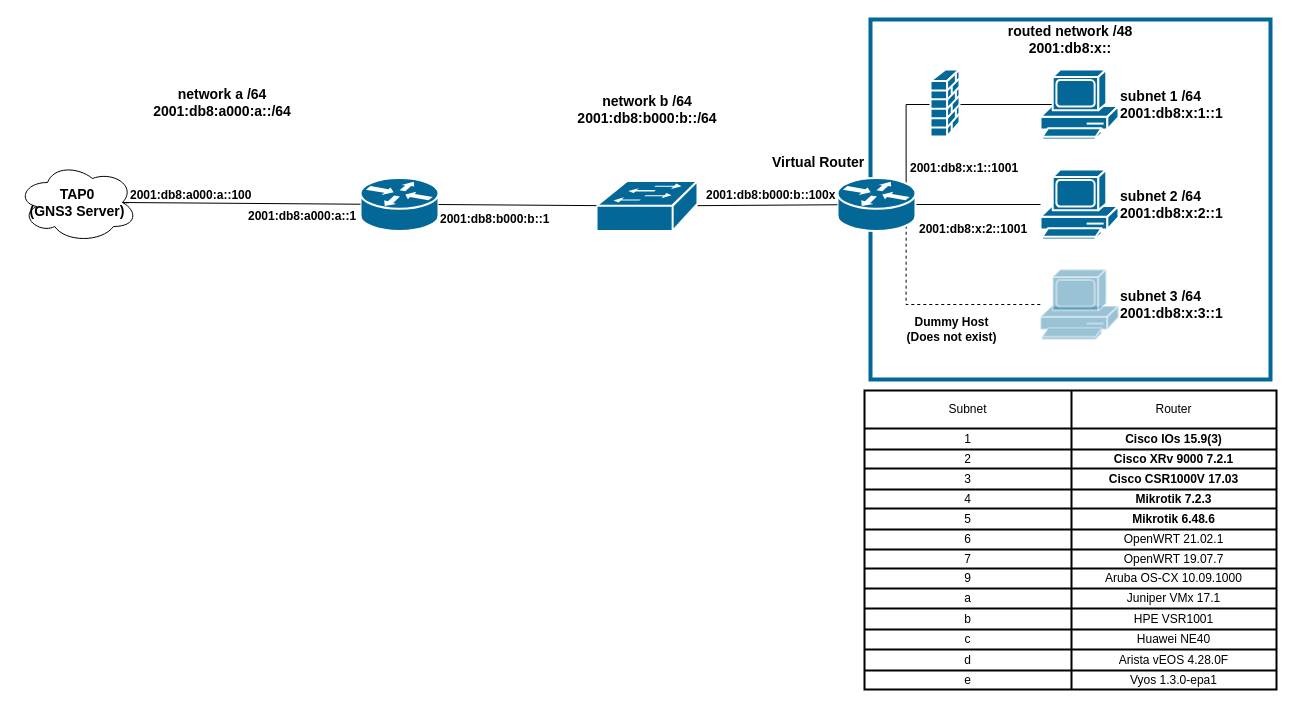
The diagram is 1295 pixels wide and 707 high, and some of its shapes have lost their labels. Each missing label, with the box of its shape:
ACL: (929, 68, 960, 137)
Bridge (MikroTik 6.48.6): (359, 176, 439, 232)
